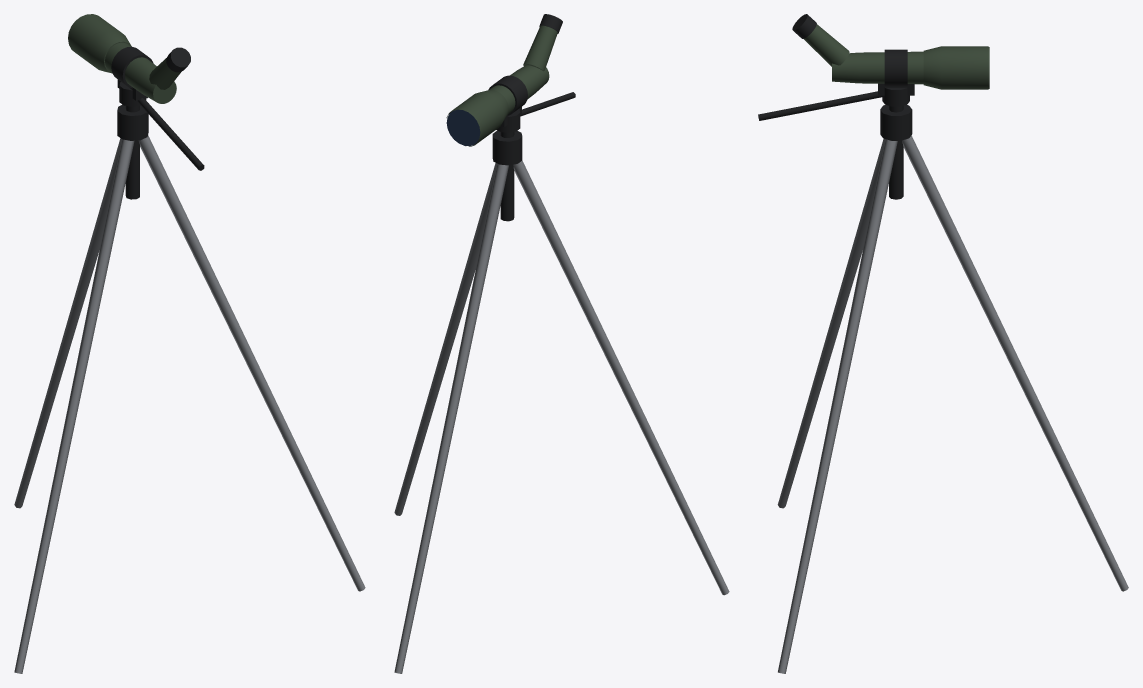
The model's file is spotting-scope.glb.
3 views of the same model, side by side, from view 1: azimuth 30°, elevation 25°; view 2: azimuth 150°, elevation 25°; view 3: azimuth 270°, elevation 25° (orthographic). The views are drawn at different scales.
Visible parts, largest first — view 1: tripod_alloy, objective_armour, tripod_black, scope-body_armour, head, focus-ring, eyepiece_armour; view 2: tripod_alloy, tripod_black, objective_armour, scope-body_armour, objective_glass, eyepiece_armour, head, focus-ring; view 3: tripod_alloy, objective_armour, scope-body_armour, tripod_black, head, eyepiece_armour, focus-ring.
Boxes of the visible parts, x1,y1,x2,y2 form: tripod_alloy: (14,135,365,673); objective_armour: (68,14,131,73); tripod_black: (117,104,148,199); scope-body_armour: (105,42,176,103); head: (119,82,204,170); focus-ring: (111,46,153,88); eyepiece_armour: (149,58,181,89); tripod_alloy: (394,160,729,673); tripod_black: (492,130,522,221); objective_armour: (446,90,508,146); scope-body_armour: (489,65,549,114); objective_glass: (446,109,480,146); eyepiece_armour: (523,25,557,71); head: (496,92,575,132); focus-ring: (488,75,527,115); tripod_alloy: (777,135,1128,673); objective_armour: (923,46,989,89); scope-body_armour: (832,51,923,84); tripod_black: (880,105,912,199); head: (758,87,909,120); eyepiece_armour: (803,24,849,66); focus-ring: (884,49,907,85).
Size of the model in its own units: 0.881 by 1.39 by 0.8099.
